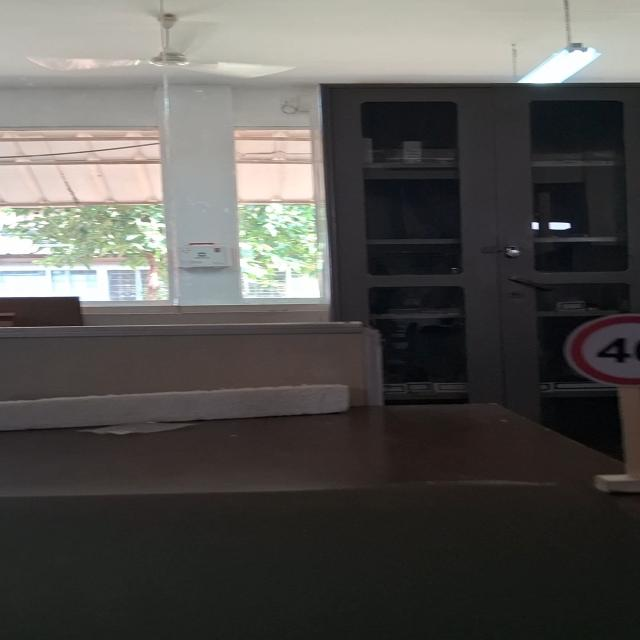Speed40: (558, 310, 640, 391)
